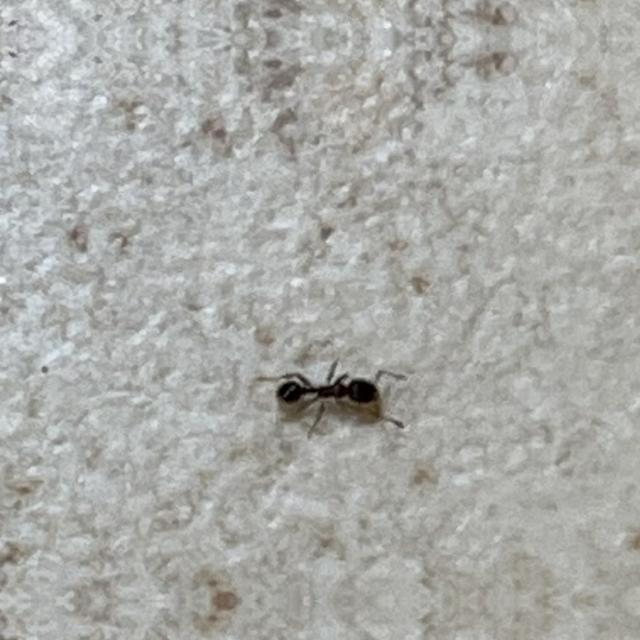Tetramorium: (264, 348, 398, 426)
